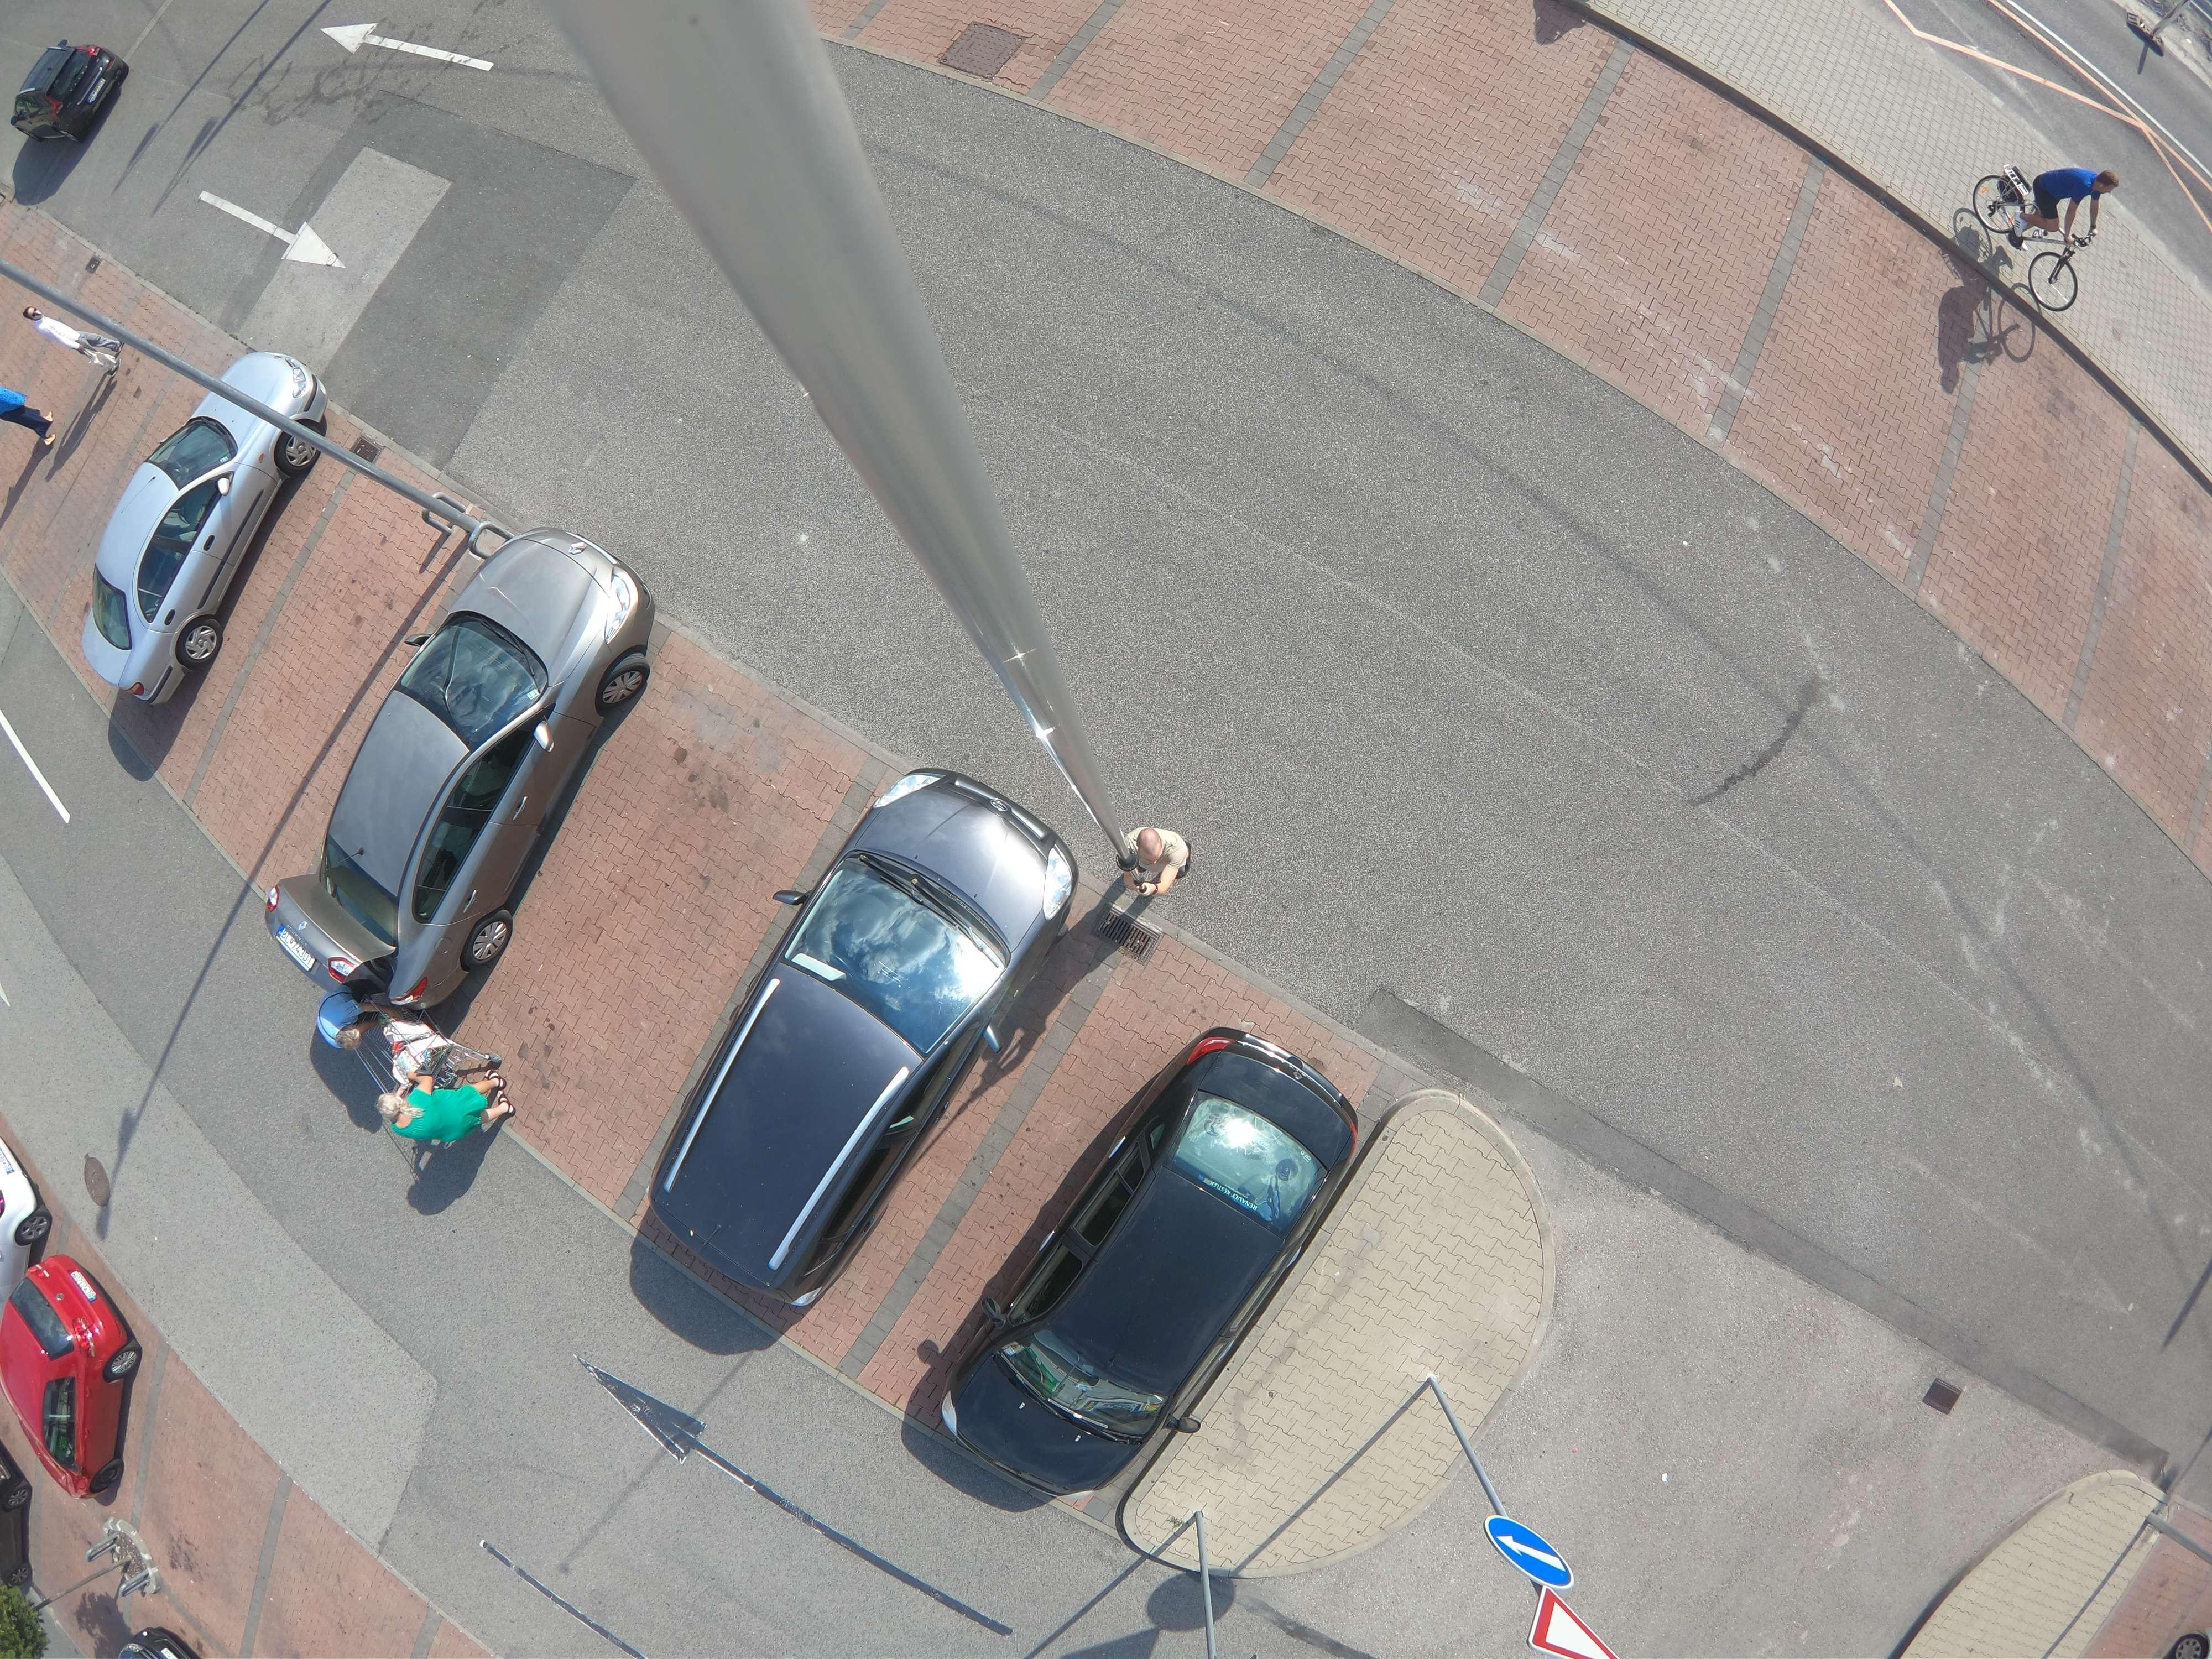empty: (651, 786, 1108, 1371), (308, 523, 693, 1042), (946, 1023, 1367, 1478), (85, 352, 388, 725), (16, 1211, 152, 1558), (3, 47, 136, 173)
occupied: (484, 816, 752, 1051), (195, 570, 404, 793), (1580, 179, 1766, 326), (1097, 19, 1298, 150), (5, 418, 160, 582), (1350, 70, 1524, 199), (1965, 436, 2109, 570), (1804, 329, 1942, 464), (122, 1488, 287, 1593), (2135, 613, 2212, 741)
